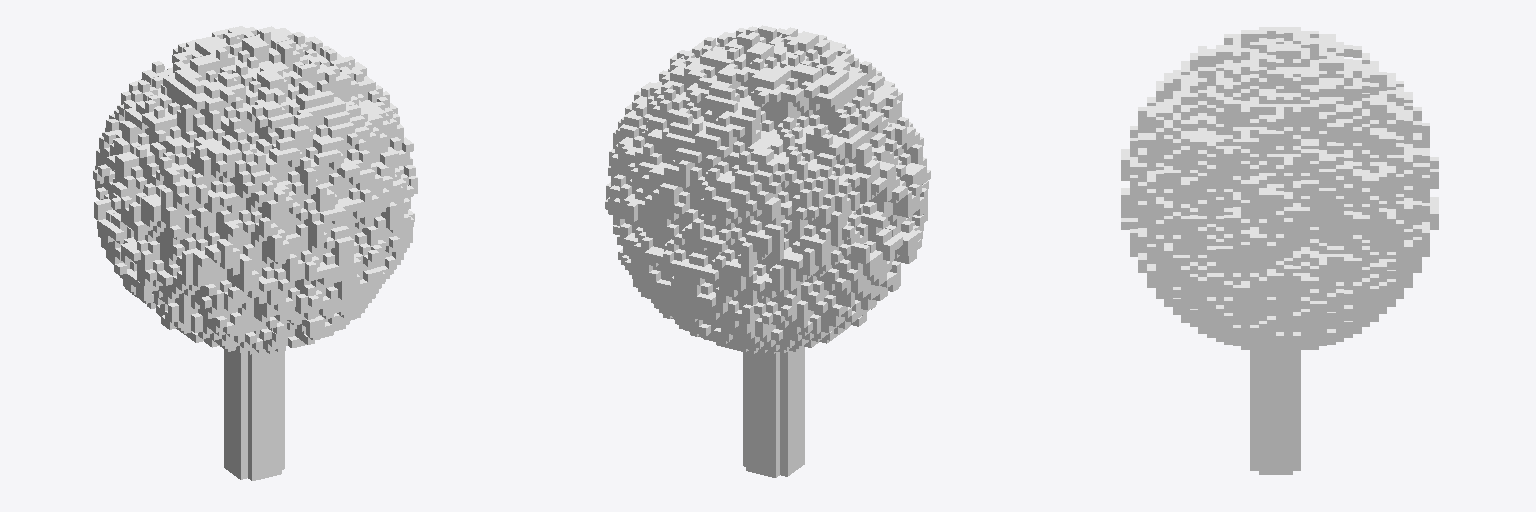
Rendered from Treeround.obj.
3 renders of one model, left to right at view 1: azimuth 30°, elevation 25°; view 2: azimuth 150°, elevation 25°; view 3: azimuth 270°, elevation 25°, orthographic.
Visible parts, largest first — view 1: object 1; view 2: object 1; view 3: object 1.
Boxes of the visible parts, x1,y1,x2,y2 form: object 1: [93, 26, 417, 480]; object 1: [605, 25, 930, 477]; object 1: [1121, 27, 1438, 474].
Size of the model in its own units: 3.7 by 5.4 by 3.7.